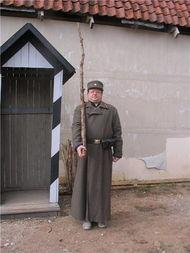up: (71, 76, 125, 233)
